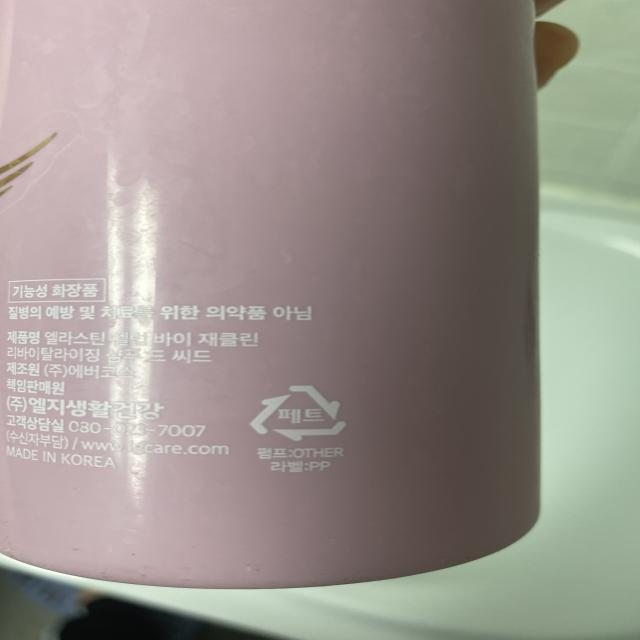PET: (238, 375, 354, 445)
